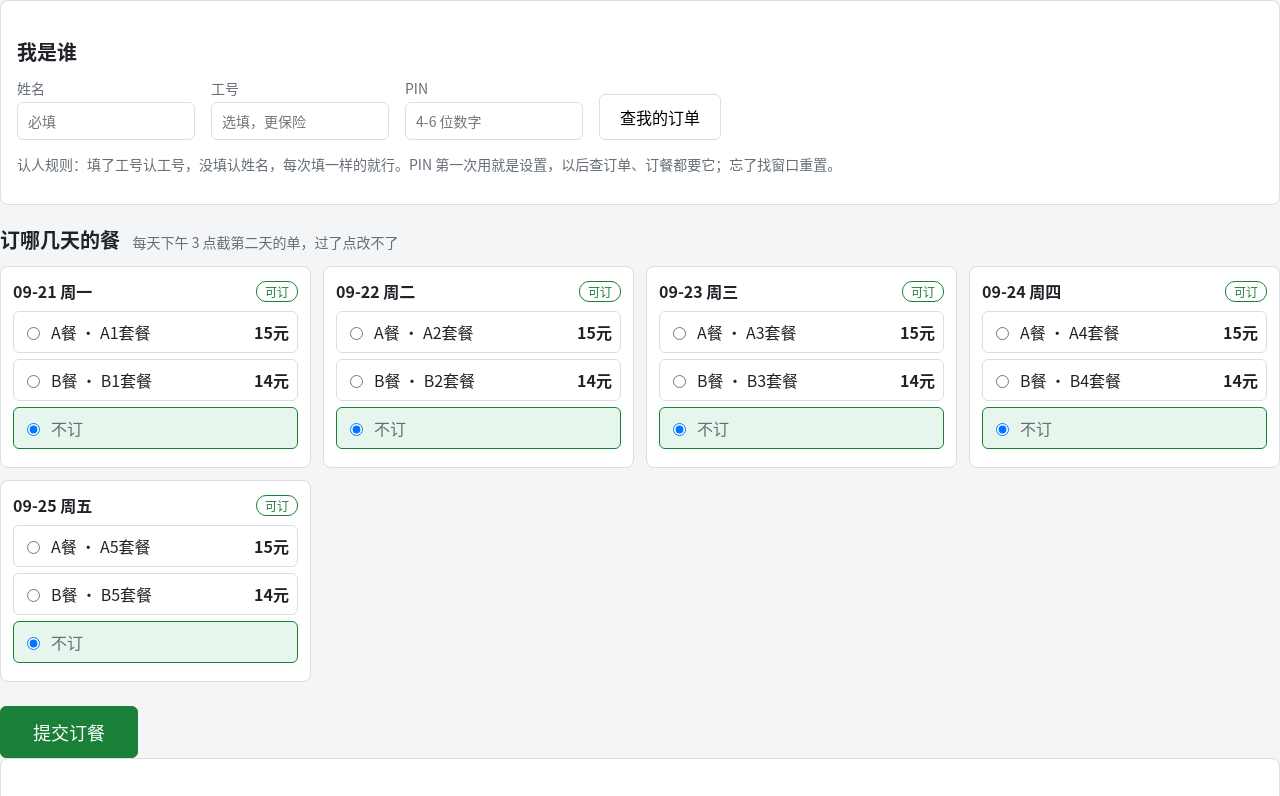
Test: 订餐页（界面） › 填姓名 → 勾三天 → 提交 → 看到 3 个取餐码
This screenshot has width=1280, height=796.
Type "钱七" into the field with placeholder "必填" at [106, 121], box [17, 102, 195, 140]
Type "E100" into the field with placeholder "选填，更保险" at [300, 121], box [211, 102, 389, 140]
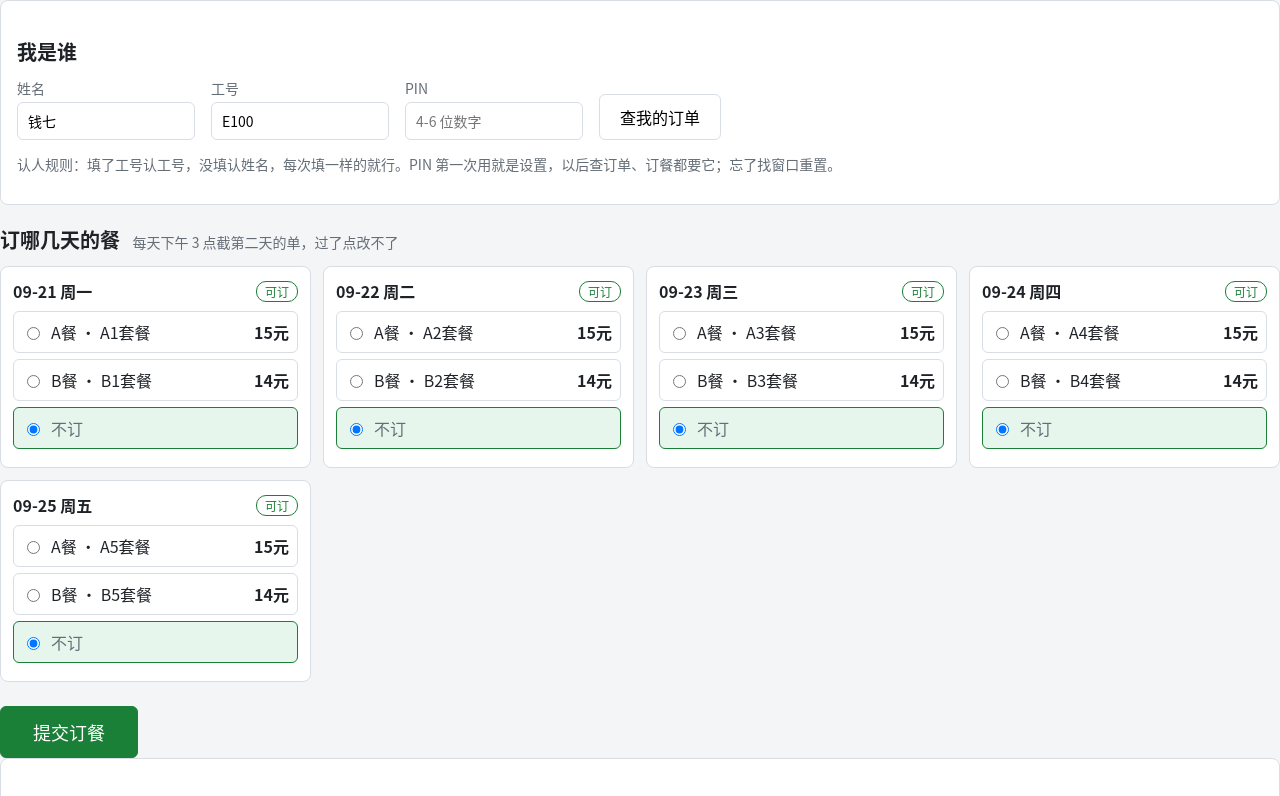
Type "4321" into the password field with placeholder "4-6 位数字" at [494, 121], box [405, 102, 583, 140]
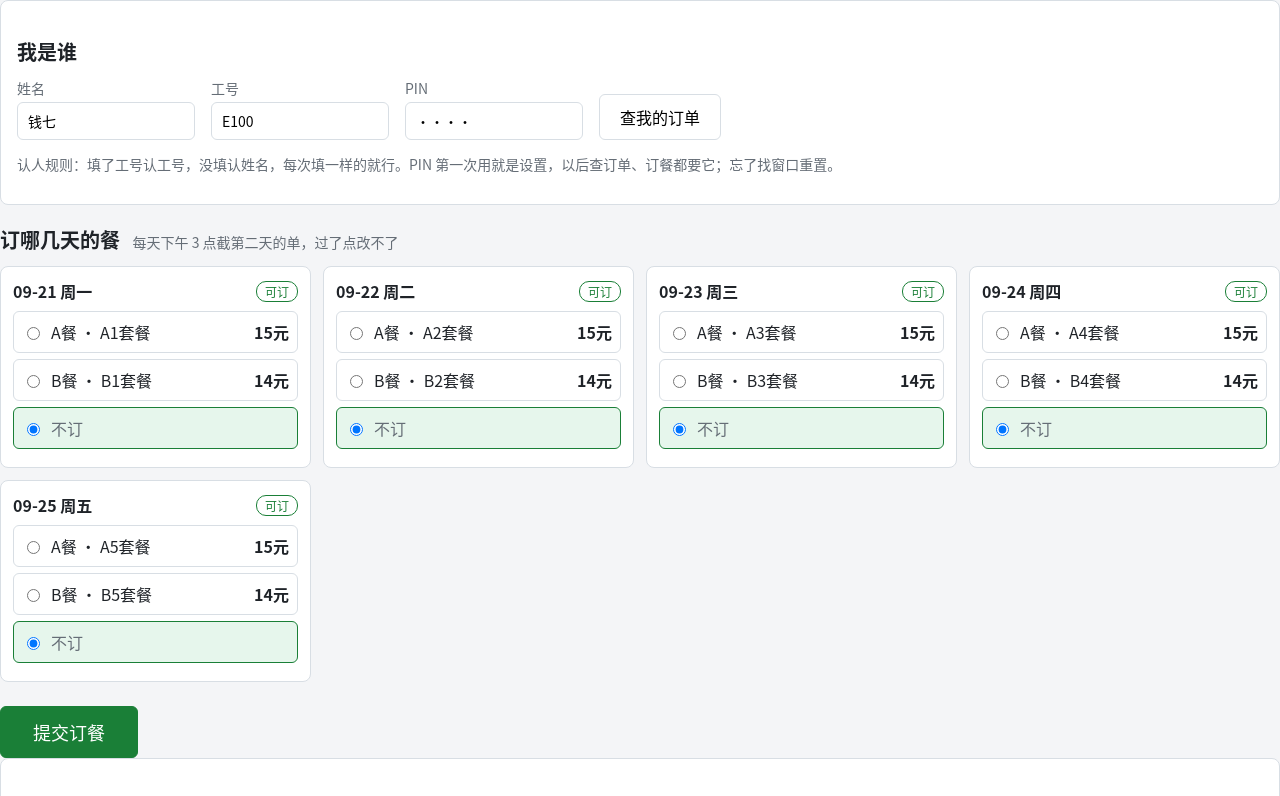
Click the radio button labelled "A餐 · A1套餐 15元" at [34, 334], box [27, 327, 40, 340]
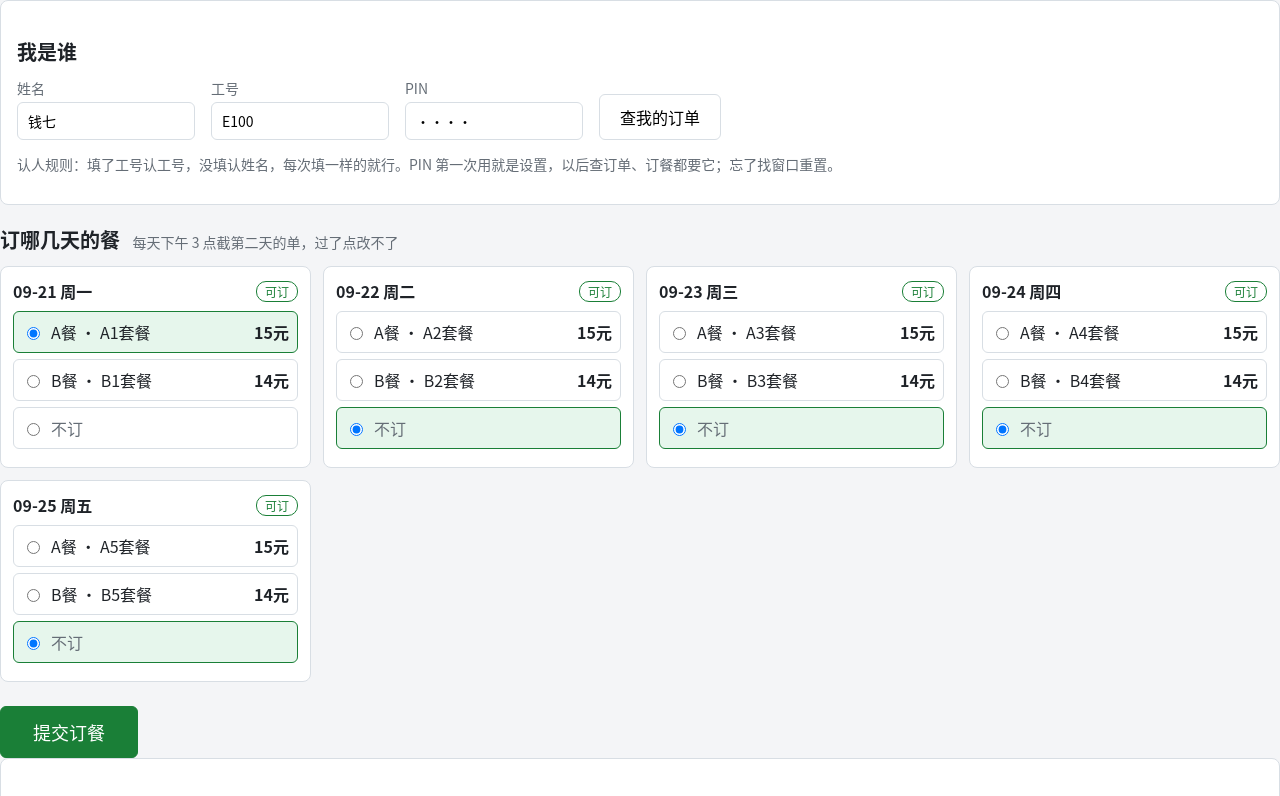
Click the radio button labelled "A餐 · A2套餐 15元" at [356, 334], box [350, 327, 363, 340]
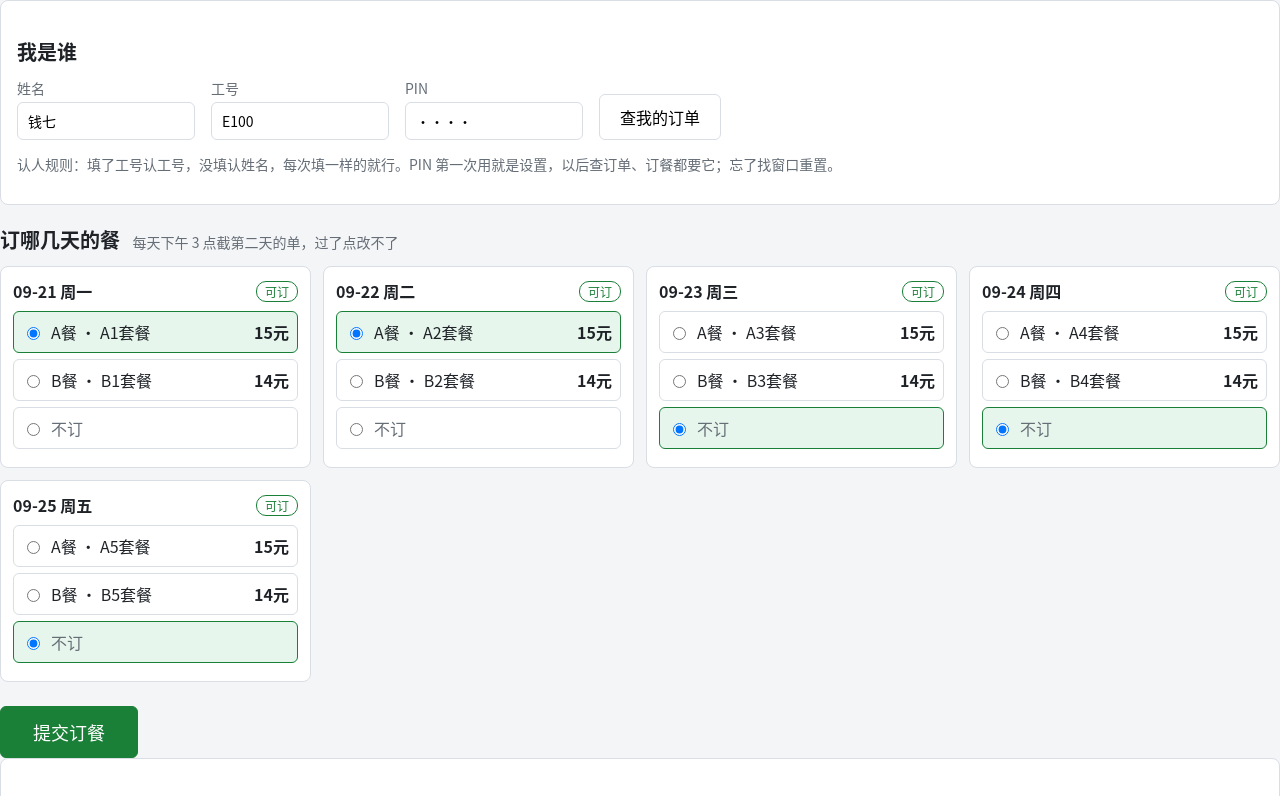
Click the radio button labelled "A餐 · A3套餐 15元" at [680, 334], box [673, 327, 686, 340]
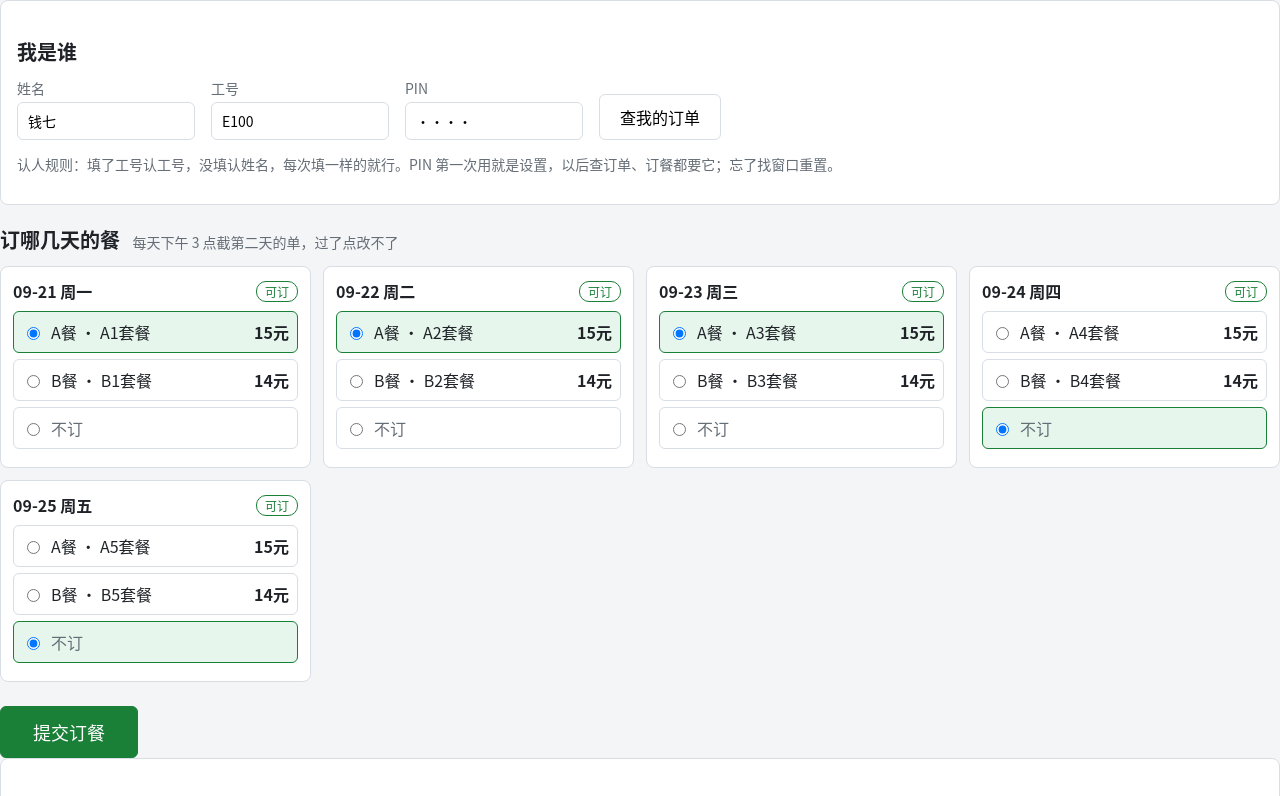
Click the button "提交订餐" at [69, 732], box [0, 706, 138, 758]
(page scrolled)
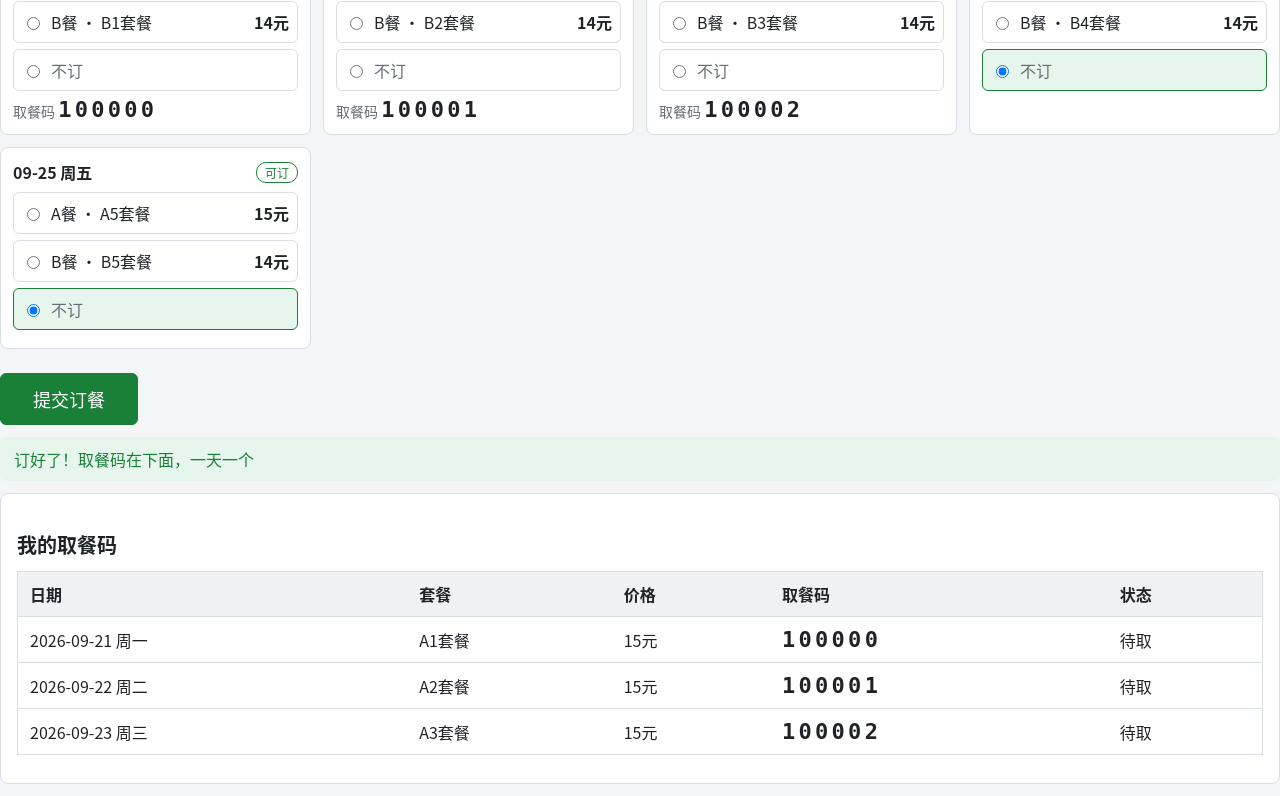
Now the text "订好了！取餐码在下面，一天一个" is shown, box [0, 437, 1279, 481]
